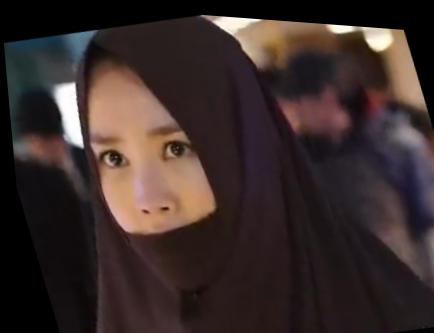WRONG: (70, 93, 268, 300)
